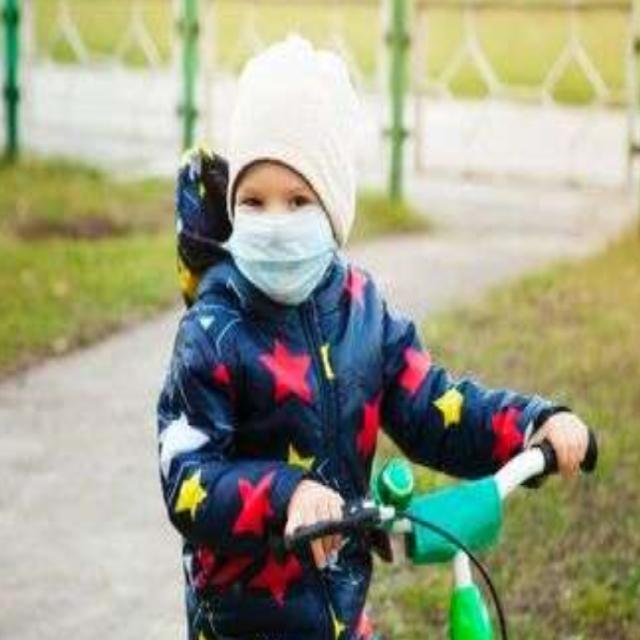hat: (224, 38, 359, 246)
